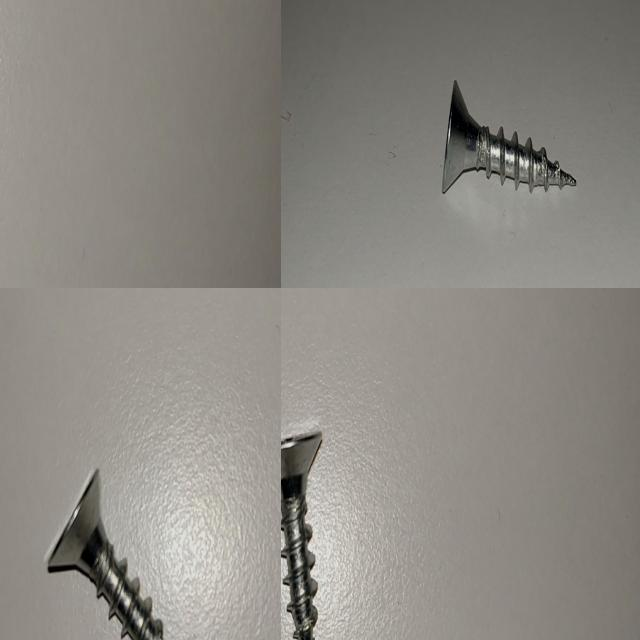Screw: (44, 468, 164, 640), (442, 79, 577, 192), (281, 430, 322, 640)
